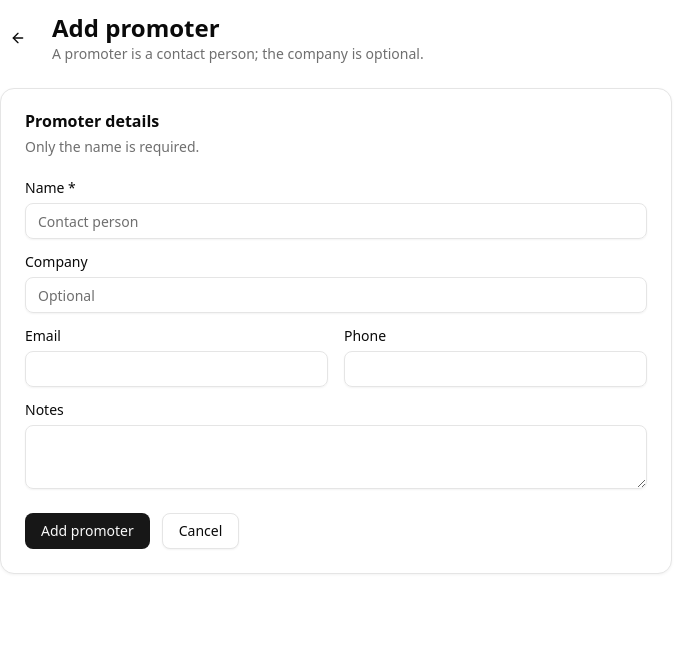
Test: shows a server refusal, keeps the draft and does not navigate
The width and height of the screenshot is (689, 653).
Type "Marta Rossi" into the field labelled "Name *". click: x=336, y=221
box: [25,203,647,239]
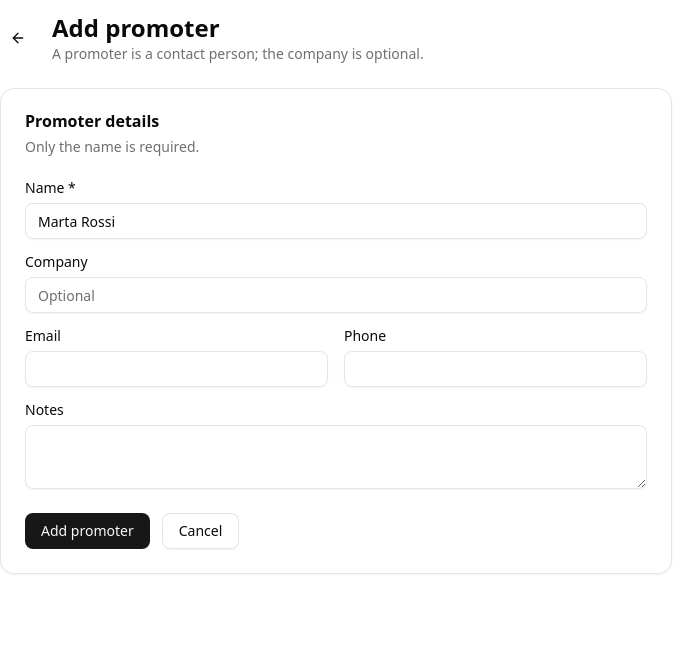
Click the button "Add promoter". click: x=87, y=531
box: [25,513,150,549]
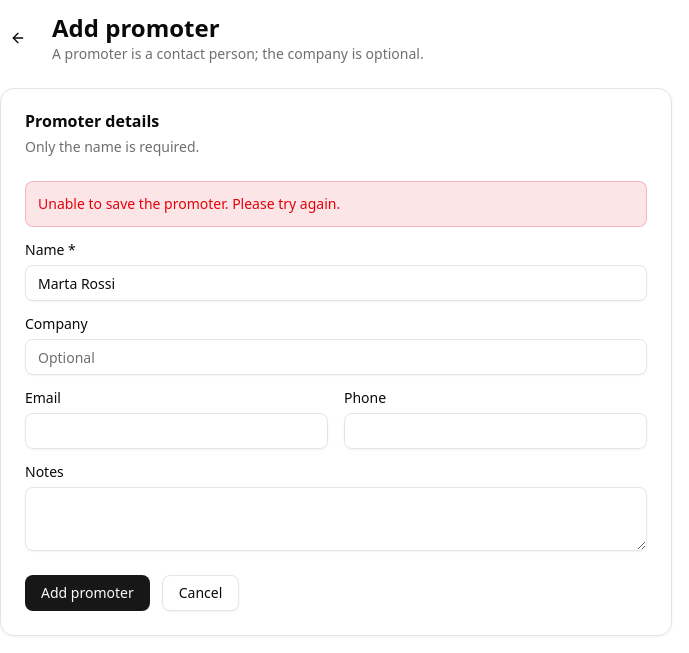
Now the message reads "Unable to save the promoter. Please try again.", box [38,194,340,213]
